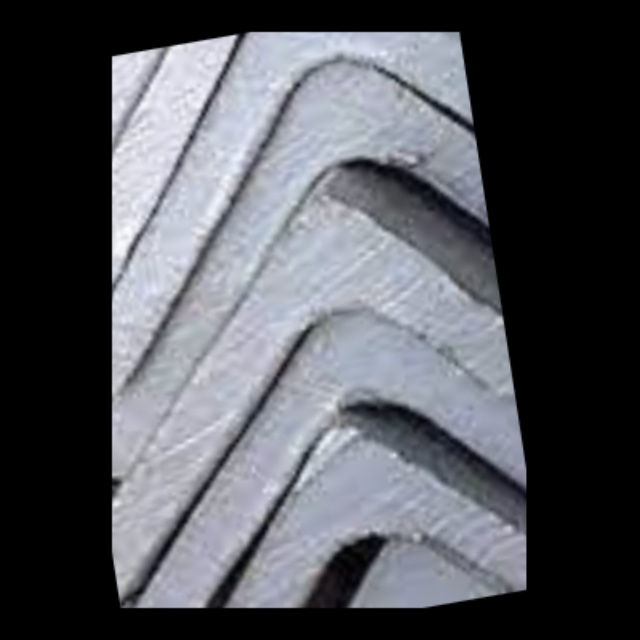Angle: (112, 230, 526, 608), (112, 92, 511, 438), (112, 32, 501, 372), (112, 338, 526, 608), (112, 32, 481, 243), (112, 37, 268, 361), (216, 454, 526, 608), (112, 55, 143, 204)
